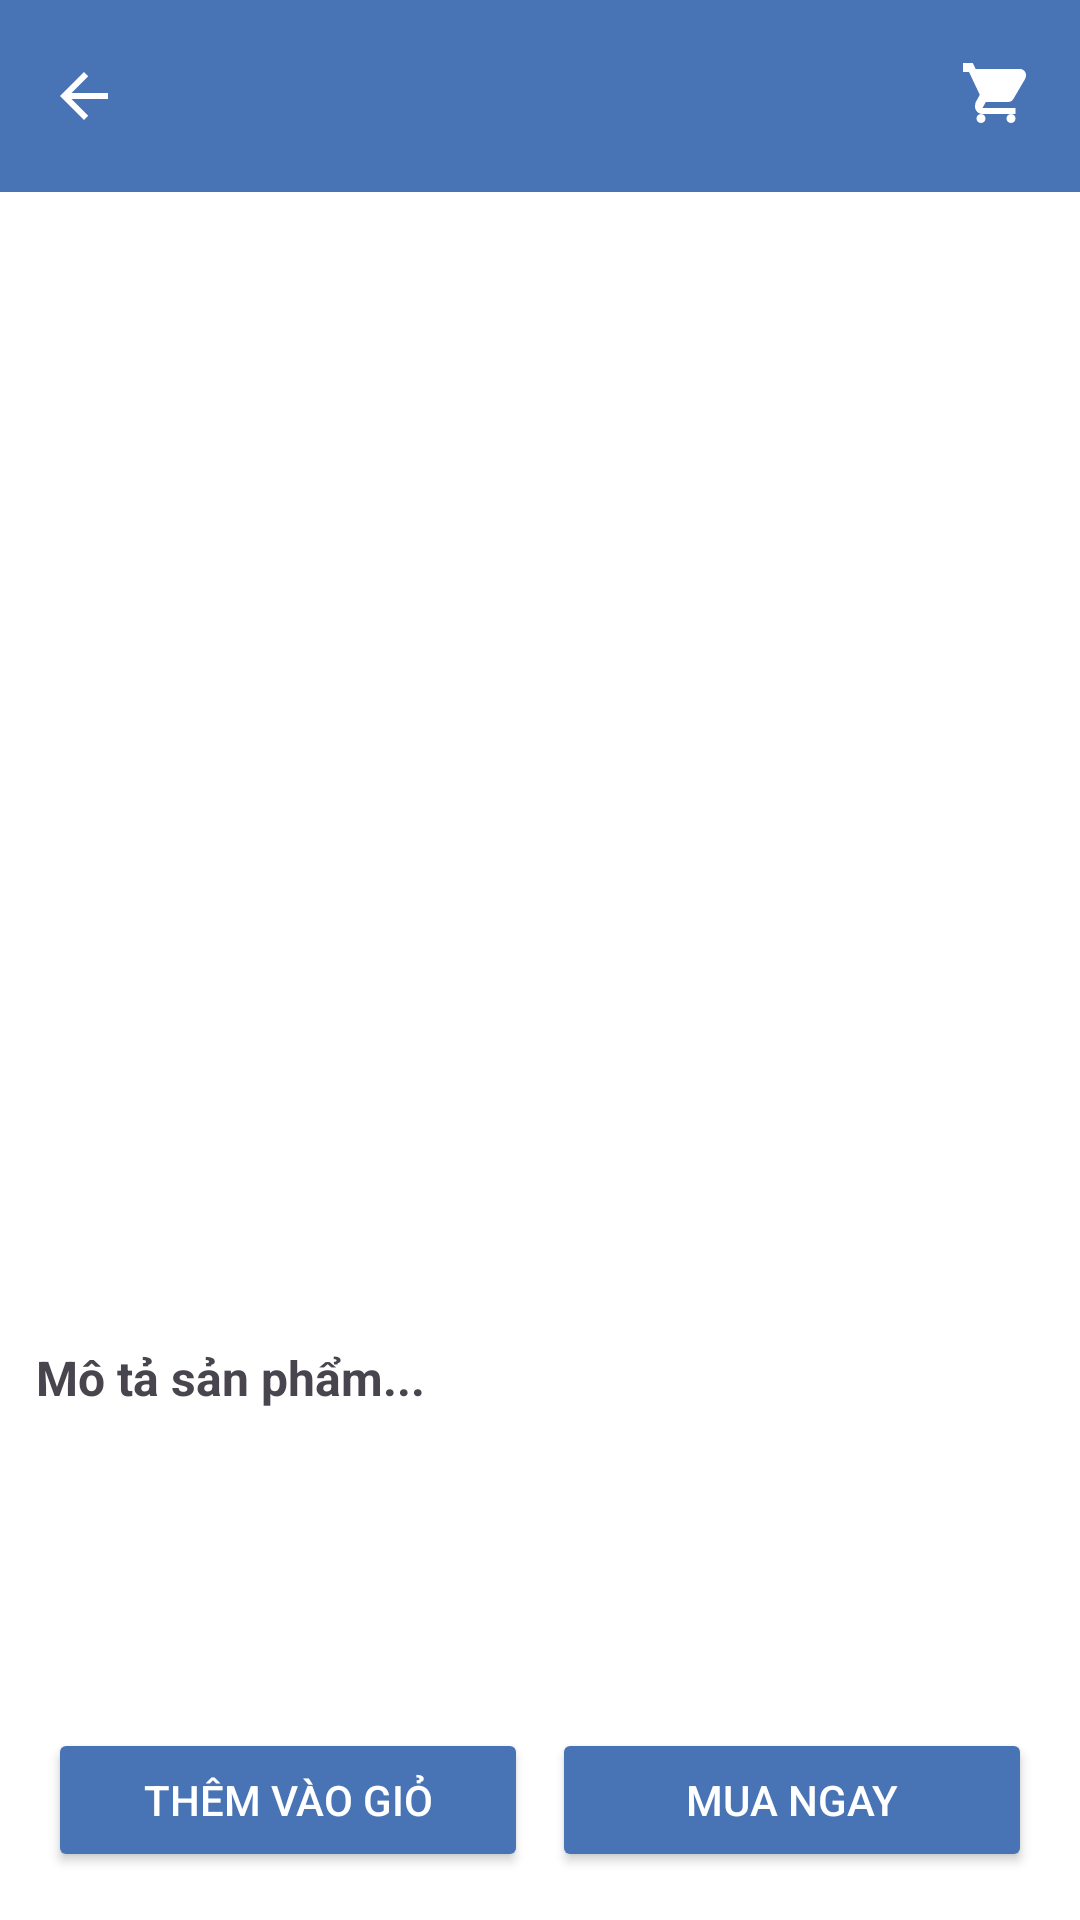

Icon click points for this 1080 × 1920 phone screenshot, format (x=x, y=y):
back: (x=84, y=96)
cart: (x=994, y=93)
